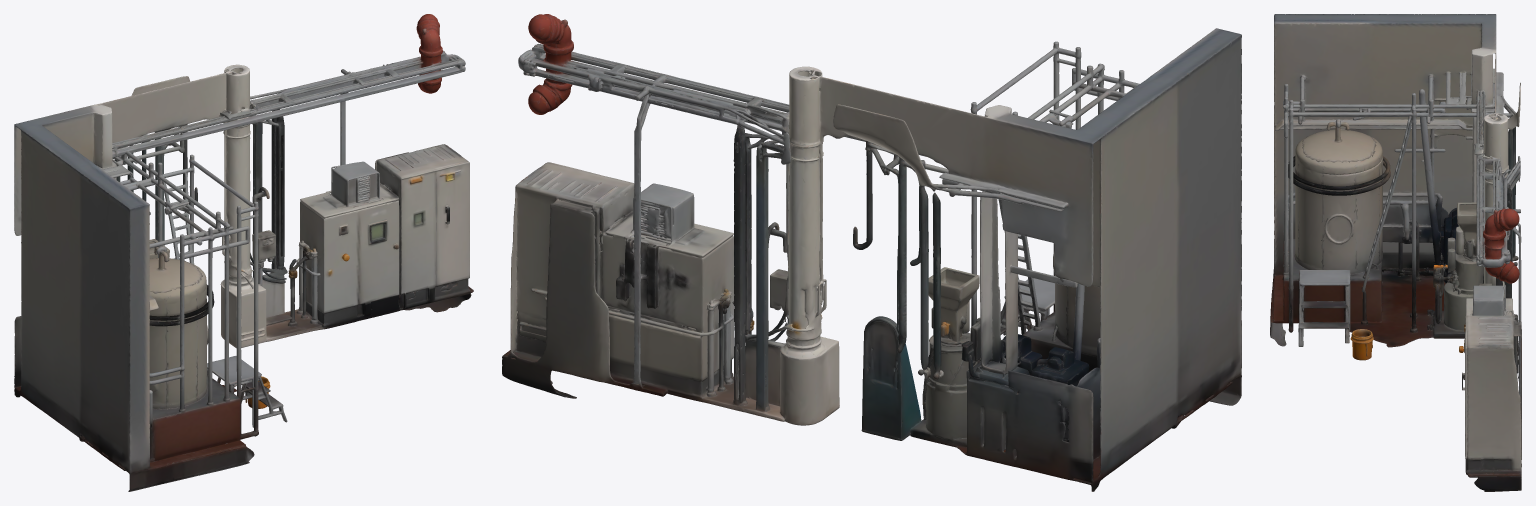
Rendered from beyti-almarai-factory-1.glb.
3 renders of one model, left to right at view 1: azimuth 30°, elevation 25°; view 2: azimuth 150°, elevation 25°; view 3: azimuth 270°, elevation 25°, orthographic. The views are drawn at different scales.
Size of the model in its own units: 1 by 0.6255 by 0.5106.
Materials: 1 (1 with a texture image).
